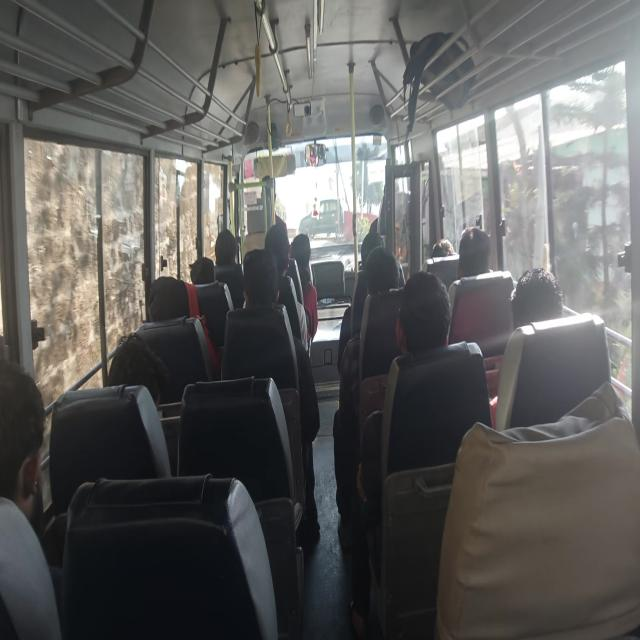person: (349, 270, 493, 636), (435, 381, 639, 638), (220, 247, 320, 540), (333, 244, 402, 548), (0, 359, 62, 638), (489, 267, 564, 427), (0, 359, 46, 522), (337, 231, 385, 374), (264, 222, 309, 352), (107, 332, 169, 410), (511, 266, 564, 330), (290, 232, 318, 342), (213, 228, 244, 310), (456, 225, 492, 278), (214, 228, 237, 266), (189, 256, 215, 285), (430, 238, 455, 258)
